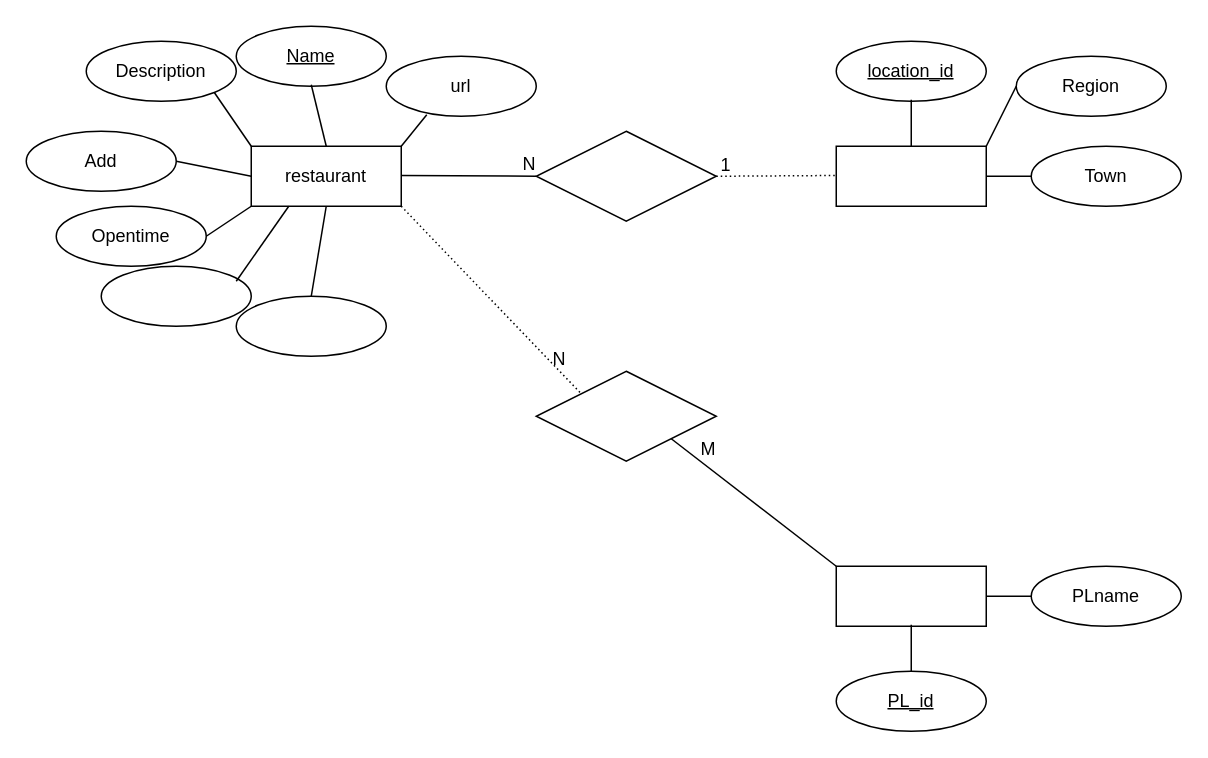
The diagram is 1208 pixels wide and 758 high, and some of its shapes have lost their labels. Each missing label, with the box of its shape:
located on: (535, 130, 716, 221)
location: (835, 145, 986, 206)
parking: (535, 370, 716, 461)
parking lot: (835, 565, 986, 626)
Parkinginfo: (100, 265, 251, 326)
Tel: (235, 295, 386, 356)
